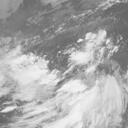cyclone: (33, 46, 103, 105)
